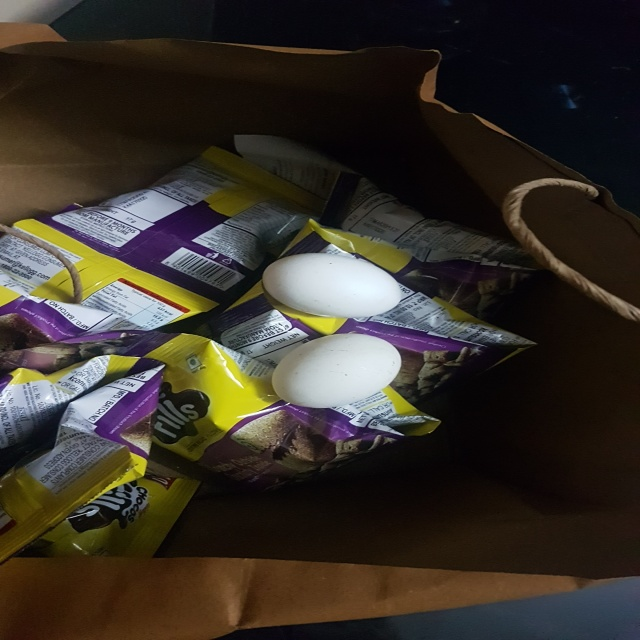eggs: (263, 333, 406, 407), (259, 250, 409, 319)
